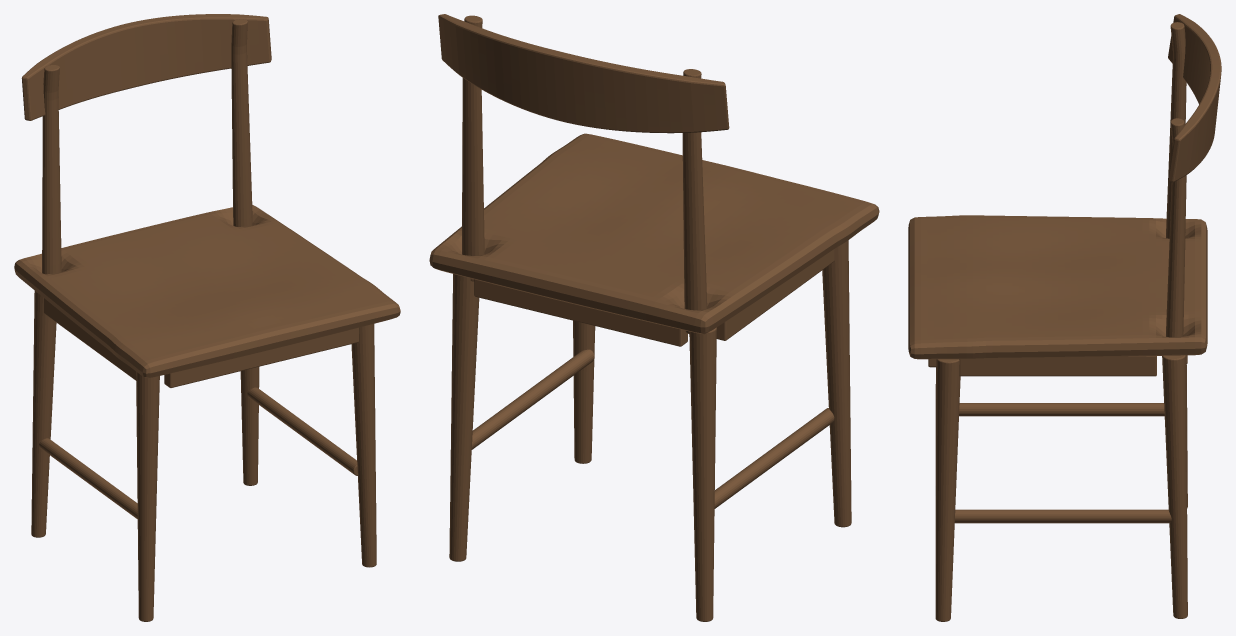
3 views of the same model, side by side, from view 1: azimuth 30°, elevation 25°; view 2: azimuth 150°, elevation 25°; view 3: azimuth 270°, elevation 25° (orthographic). The views are drawn at different scales.
Visible parts, largest first — view 1: Seat, CurvedBackrest, FrontLeg_1, FrontLeg_0, BackLeg_1, SeatFrameApron, BackrestStile_0, BackrestStile_1, BackLeg_0, SideStretcher_0, SideStretcher_1; view 2: Seat, CurvedBackrest, BackLeg_1, BackLeg_0, FrontLeg_1, SeatFrameApron, BackrestStile_1, BackrestStile_0, FrontLeg_0, SideStretcher_0, SideStretcher_1; view 3: Seat, FrontLeg_0, BackLeg_0, CurvedBackrest, SeatFrameApron, SideStretcher_0, BackrestStile_0, SideStretcher_1, BackrestStile_1.
Boxes of the visible parts, x1=… form: Seat: x1=14, y1=205, x2=400, y2=378; CurvedBackrest: x1=21, y1=14, x2=271, y2=120; FrontLeg_1: x1=136, y1=371, x2=159, y2=621; FrontLeg_0: x1=351, y1=324, x2=376, y2=567; BackLeg_1: x1=31, y1=291, x2=56, y2=537; SeatFrameApron: x1=43, y1=298, x2=358, y2=387; BackrestStile_0: x1=231, y1=19, x2=252, y2=226; BackrestStile_1: x1=42, y1=65, x2=61, y2=274; BackLeg_0: x1=240, y1=367, x2=259, y2=485; SideStretcher_0: x1=247, y1=387, x2=357, y2=475; SideStretcher_1: x1=39, y1=438, x2=137, y2=518; Seat: x1=429, y1=133, x2=879, y2=334; CurvedBackrest: x1=438, y1=14, x2=729, y2=133; BackLeg_1: x1=689, y1=327, x2=716, y2=621; BackLeg_0: x1=449, y1=274, x2=479, y2=561; FrontLeg_1: x1=822, y1=240, x2=851, y2=527; SeatFrameApron: x1=474, y1=249, x2=834, y2=346; BackrestStile_1: x1=682, y1=69, x2=707, y2=334; BackrestStile_0: x1=462, y1=15, x2=484, y2=281; FrontLeg_0: x1=573, y1=320, x2=595, y2=463; SideStretcher_0: x1=471, y1=349, x2=594, y2=449; SideStretcher_1: x1=714, y1=408, x2=834, y2=508; Seat: x1=908, y1=215, x2=1207, y2=359; FrontLeg_0: x1=935, y1=359, x2=960, y2=621; BackLeg_0: x1=1162, y1=355, x2=1187, y2=618; CurvedBackrest: x1=1168, y1=14, x2=1221, y2=182; SeatFrameApron: x1=928, y1=355, x2=1187, y2=376; SideStretcher_0: x1=954, y1=509, x2=1171, y2=523; BackrestStile_0: x1=1166, y1=118, x2=1186, y2=337; SideStretcher_1: x1=959, y1=403, x2=1164, y2=416; BackrestStile_1: x1=1166, y1=22, x2=1186, y2=238.
Size of the model in its own units: 0.4582 by 0.8 by 0.459.
